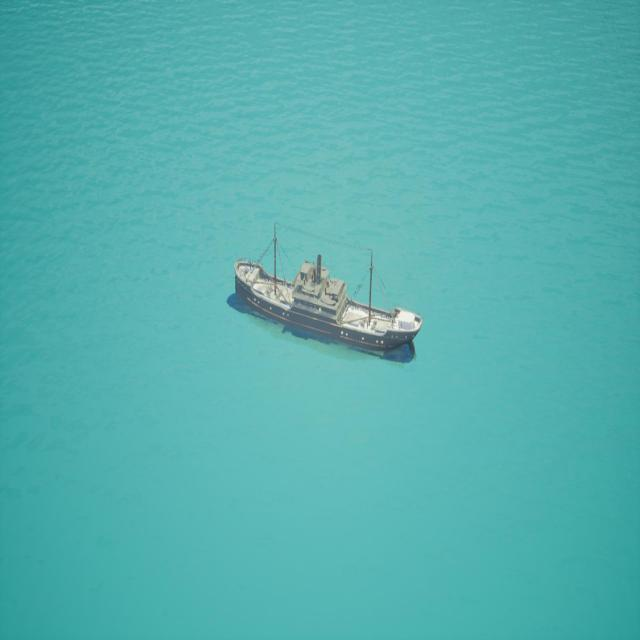fishing ship: (234, 226, 420, 363)
